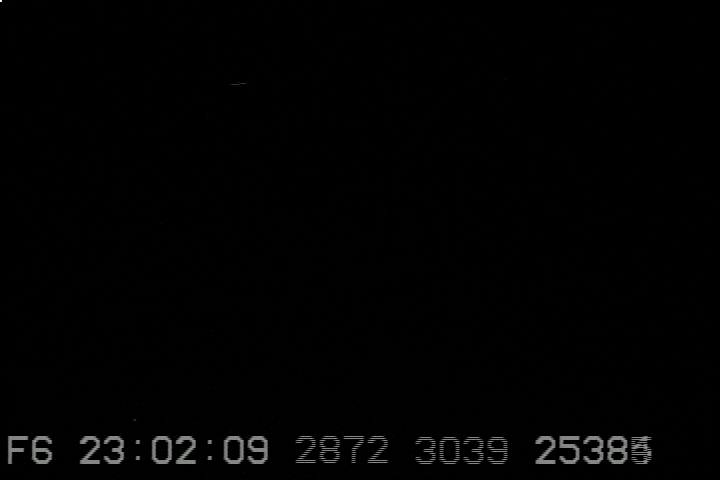0: (439, 434, 461, 467), (150, 434, 173, 465), (222, 434, 245, 465)
2: (367, 434, 390, 467), (294, 434, 318, 465), (535, 433, 557, 466), (78, 435, 101, 465), (176, 435, 197, 464)
3: (462, 434, 484, 467), (583, 433, 605, 466), (415, 435, 436, 466), (103, 435, 124, 465)
45: (631, 434, 653, 466)
5: (559, 433, 581, 465)
6: (32, 433, 53, 465)
7: (343, 434, 365, 467)
8: (319, 434, 341, 466), (607, 434, 629, 466)
9: (486, 435, 510, 466), (248, 434, 269, 465)
:: (206, 437, 214, 464), (134, 437, 142, 463)
F: (7, 433, 29, 467)
